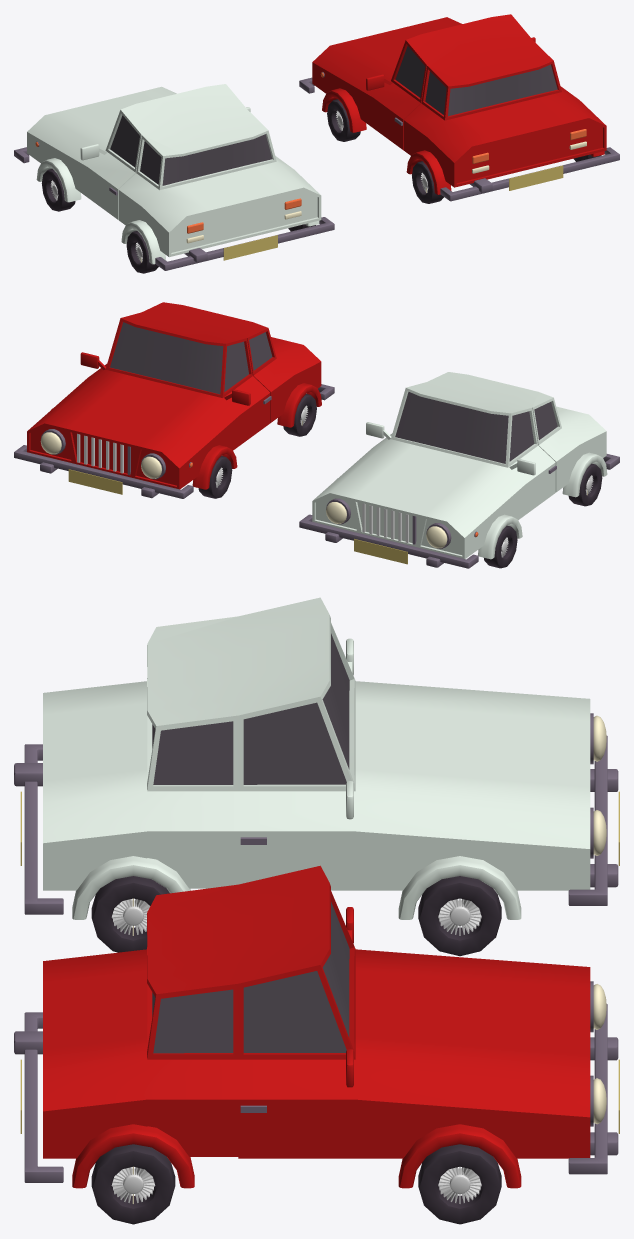
3 renders of one model, top to bottom at view 1: azimuth 30°, elevation 25°; view 2: azimuth 150°, elevation 25°; view 3: azimuth 270°, elevation 25°, orthographic. The views are drawn at different scales.
Visible parts, largest first — view 1: Car_2, Car, Cube_5_9, Cube_5_4, Tube_3, Tube, Tube_1, Tube_1_3, Tube_1_2, Tube_1_4, Tube_4, Tube_2 (+2 smaller); view 2: Car, Car_2, Cube_5, Cube_5_7, Tube_1_4, Tube_1, Tube_1_2, Tube_1_3, Sphere_3, Sphere, Tube_2, Tube (+6 smaller); view 3: Car_2, Car, Tube_3, Tube_4, Tube_2, Tube_1_3, Tube_1_4, Tube_1_2, Tube, Tube_1, Cube_5_9, Cube_5_4 (+4 smaller).
Part boxes in pixels (bbox=[...]): Car_2: bbox=[312, 14, 606, 187]; Car: bbox=[27, 84, 321, 257]; Cube_5_9: bbox=[440, 147, 619, 201]; Cube_5_4: bbox=[155, 217, 334, 270]; Tube_3: bbox=[412, 154, 601, 203]; Tube: bbox=[126, 224, 315, 273]; Tube_1: bbox=[121, 217, 321, 264]; Tube_1_3: bbox=[406, 150, 604, 194]; Tube_1_2: bbox=[36, 158, 81, 202]; Tube_1_4: bbox=[322, 88, 366, 132]; Tube_4: bbox=[327, 99, 360, 141]; Tube_2: bbox=[41, 168, 75, 211]; Car: bbox=[312, 372, 606, 558]; Car_2: bbox=[27, 302, 321, 489]; Cube_5: bbox=[299, 514, 478, 568]; Cube_5_7: bbox=[14, 445, 193, 498]; Tube_1_4: bbox=[51, 408, 237, 489]; Tube_1: bbox=[562, 452, 607, 497]; Tube_1_2: bbox=[335, 478, 522, 559]; Tube_1_3: bbox=[277, 383, 321, 427]; Sphere_3: bbox=[40, 432, 161, 478]; Sphere: bbox=[326, 502, 447, 548]; Tube_2: bbox=[484, 525, 517, 568]; Tube: bbox=[568, 463, 602, 506]; Car_2: bbox=[43, 865, 590, 1158]; Car: bbox=[43, 597, 590, 890]; Tube_3: bbox=[91, 1144, 175, 1224]; Tube_4: bbox=[418, 1144, 501, 1224]; Tube_2: bbox=[418, 876, 501, 956]; Tube_1_3: bbox=[72, 1124, 194, 1188]; Tube_1_4: bbox=[398, 1124, 521, 1188]; Tube_1_2: bbox=[398, 856, 521, 919]; Tube: bbox=[91, 876, 169, 952]; Tube_1: bbox=[72, 856, 190, 919]; Cube_5_9: bbox=[24, 1012, 63, 1182]; Cube_5_4: bbox=[24, 744, 63, 914].
Size of the model in its own units: 778 by 195 by 465.
